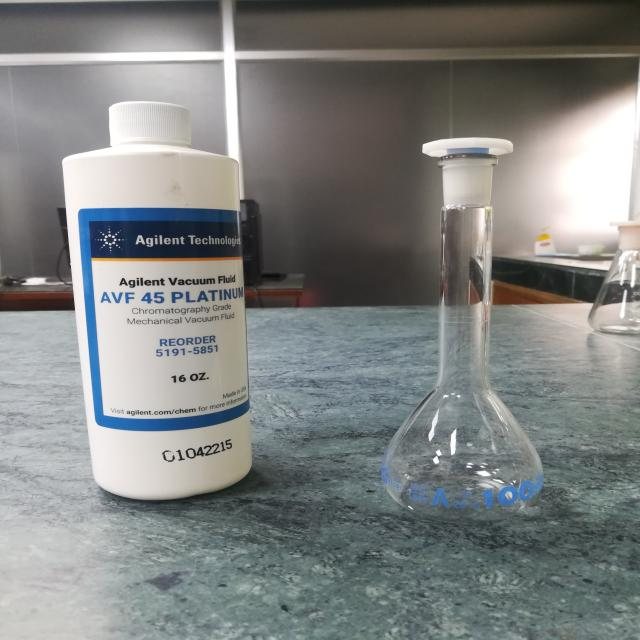Volumetric_Flask: (358, 82, 574, 526)
